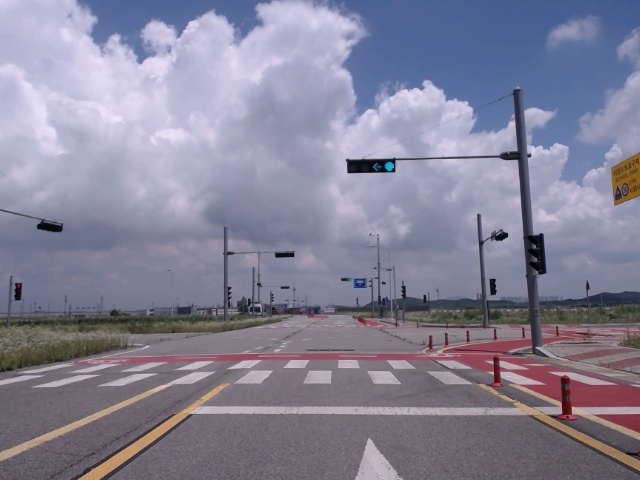all_green_4: (348, 158, 400, 172)
